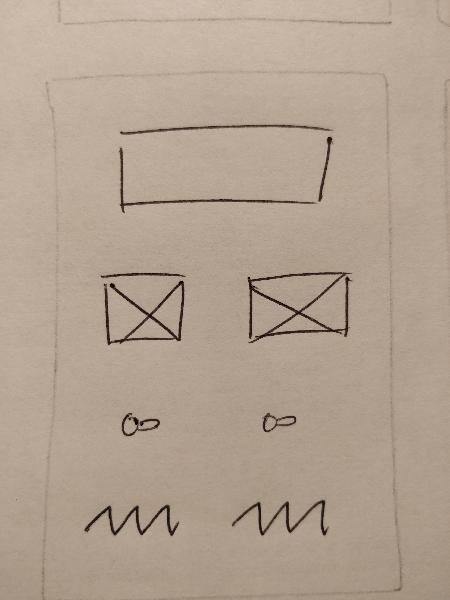image: (235, 268, 365, 351), (88, 268, 195, 350)
switch: (110, 405, 176, 445), (249, 404, 312, 443)
text: (73, 491, 195, 552), (222, 489, 348, 547)
text_input: (105, 123, 343, 213)
